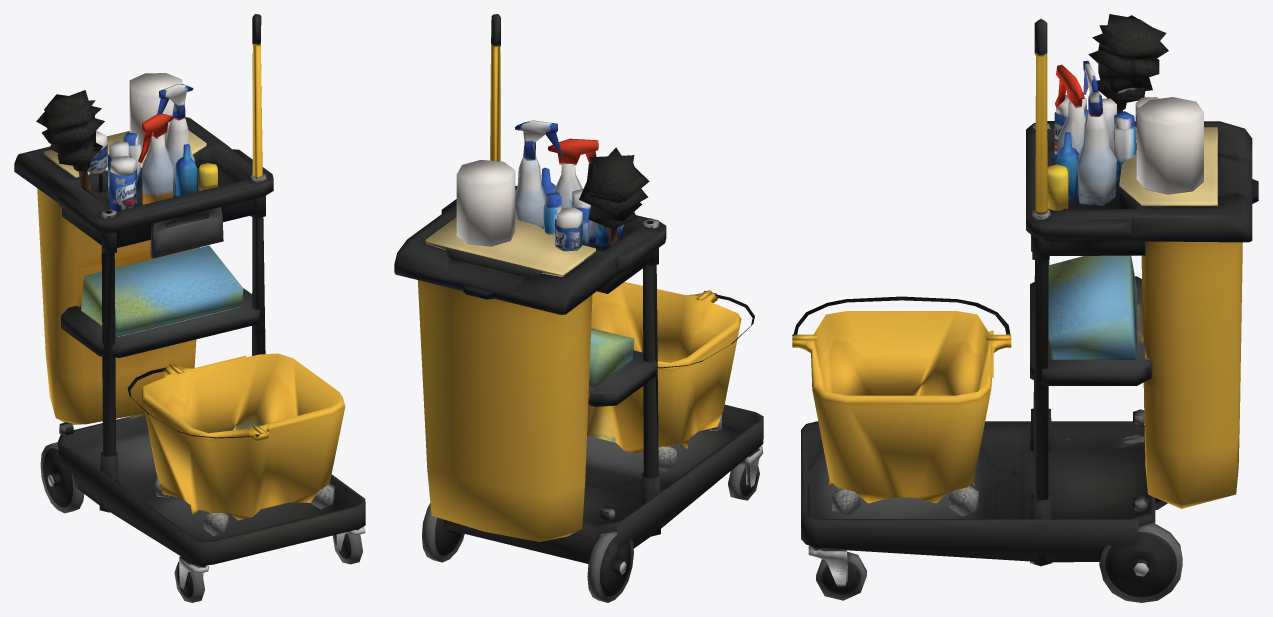
Rendered from ENV_CleaningCart_v001.fbx.
3 renders of one model, left to right at view 1: azimuth 30°, elevation 25°; view 2: azimuth 150°, elevation 25°; view 3: azimuth 270°, elevation 25°, orthographic. The views are drawn at different scales.
Parts seen in each view (by area): view 1: tripo_node_6a7cfdc5-a31b-41d4-b233-4803f64cf9fd; view 2: tripo_node_6a7cfdc5-a31b-41d4-b233-4803f64cf9fd; view 3: tripo_node_6a7cfdc5-a31b-41d4-b233-4803f64cf9fd.
Boxes of the visible parts, <box> form: tripo_node_6a7cfdc5-a31b-41d4-b233-4803f64cf9fd: <box>14,14,365,602</box>; tripo_node_6a7cfdc5-a31b-41d4-b233-4803f64cf9fd: <box>394,14,763,602</box>; tripo_node_6a7cfdc5-a31b-41d4-b233-4803f64cf9fd: <box>792,14,1258,602</box>.
Size of the model in its own units: 59.19 by 142 by 104.
Materials: 1 (1 with a texture image).
